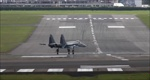maybay_muctieu: (41, 34, 85, 53)
